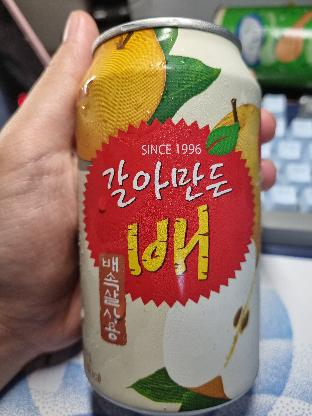Can: (66, 4, 268, 416)
